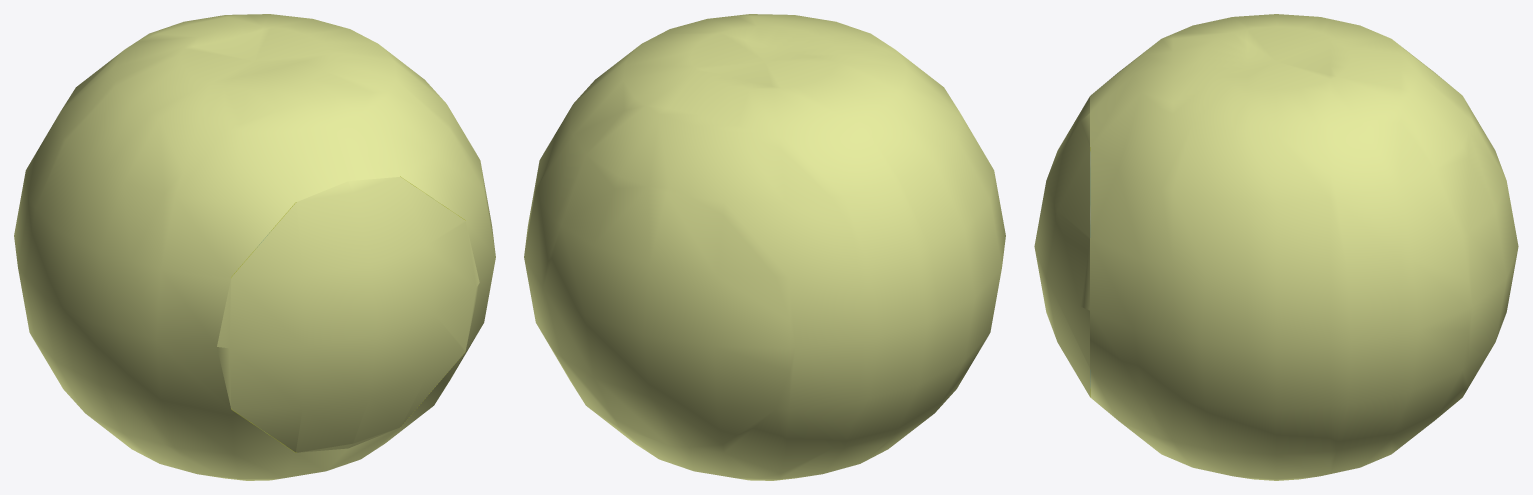
File: Lemon.fbx
3 renders of one model, left to right at view 1: azimuth 30°, elevation 25°; view 2: azimuth 150°, elevation 25°; view 3: azimuth 270°, elevation 25°, orthographic.
Parts seen in each view (by area): view 1: polySurface360, polySurface359, polySurface361, polySurface362, polySurface363, polySurface364; view 2: polySurface364, polySurface358, polySurface363, polySurface362, polySurface361, polySurface360; view 3: polySurface362, polySurface361, polySurface363, polySurface360, polySurface364, polySurface359, polySurface358.
Boxes of the visible parts, <box> form: polySurface360: <box>120,91,495,479</box>; polySurface359: <box>217,177,479,452</box>; polySurface361: <box>63,54,493,480</box>; polySurface362: <box>25,26,434,457</box>; polySurface363: <box>15,14,339,390</box>; polySurface364: <box>14,14,248,243</box>; polySurface364: <box>524,105,880,478</box>; polySurface358: <box>542,186,795,447</box>; polySurface363: <box>525,66,940,480</box>; polySurface362: <box>576,33,985,479</box>; polySurface361: <box>661,15,1003,401</box>; polySurface360: <box>735,14,1005,252</box>; polySurface362: <box>1247,14,1330,480</box>; polySurface361: <box>1173,16,1247,478</box>; polySurface363: <box>1330,19,1400,473</box>; polySurface360: <box>1090,34,1172,458</box>; polySurface364: <box>1401,46,1468,446</box>; polySurface359: <box>1034,96,1089,396</box>; polySurface358: <box>1468,106,1518,386</box>.
Bounding box in the file's own units: 7.59 × 6.95 × 7.59.
